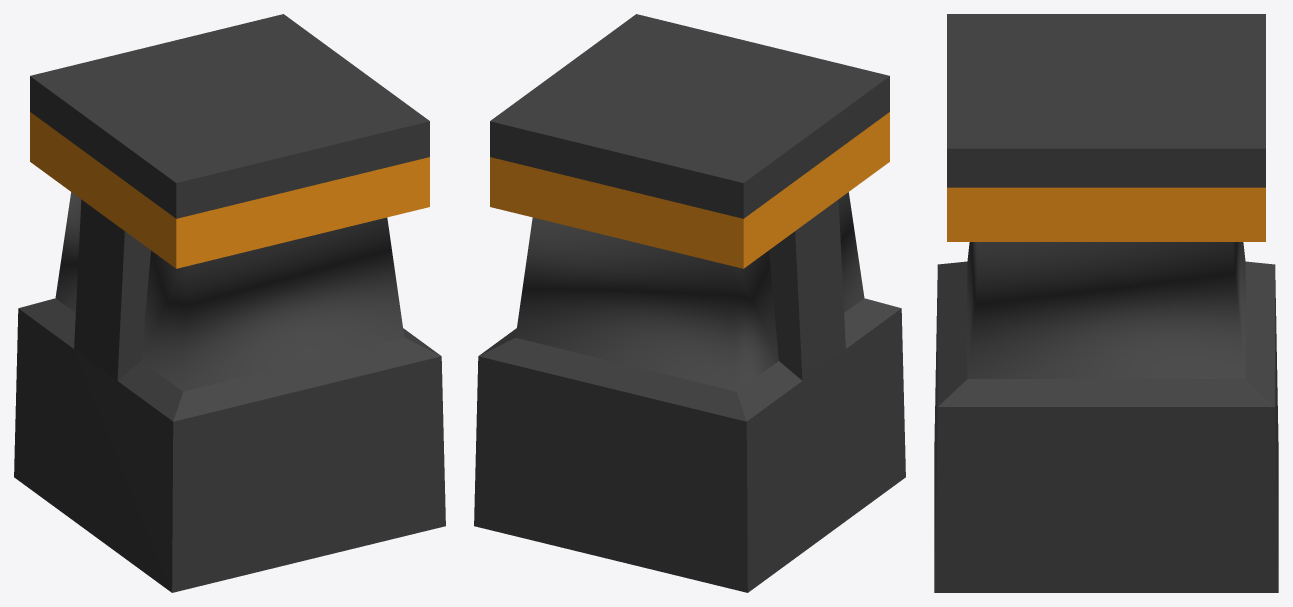
Rendered from hokuyo_utm30lx_modified.dae.
The picture shows the model from 3 angles, left to right: view 1: azimuth 30°, elevation 25°; view 2: azimuth 150°, elevation 25°; view 3: azimuth 270°, elevation 25°; orthographic projection. The views are drawn at different scales.
Visible parts, largest first — view 1: Plane; view 2: Plane; view 3: Plane.
Boxes of the visible parts, <box> form: Plane: <box>14,14,445,592</box>; Plane: <box>474,14,905,592</box>; Plane: <box>934,14,1278,592</box>.
Size of the model in its own units: 0.0301 by 0.0301 by 0.0423.
